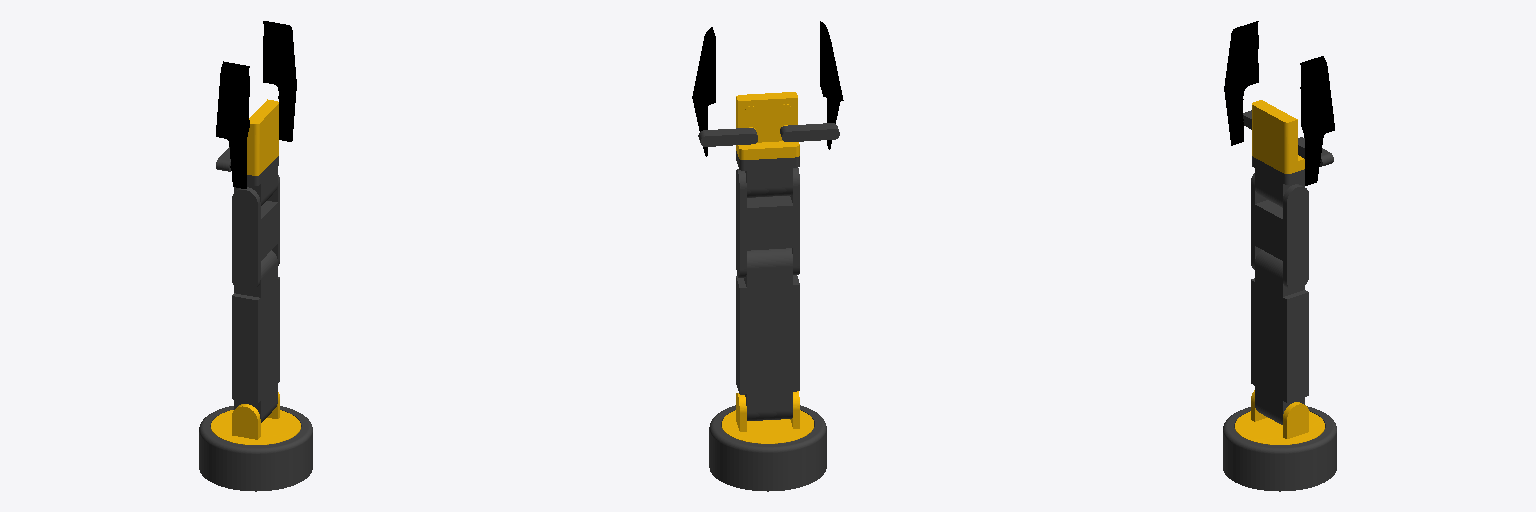
robot.urdf — roboticarm:
<?xml version="1.0" encoding="utf-8"?>
<robot name="roboticarm">
	<link name="base_link">
		<visual>
			<origin xyz="0 -3.061616997868383172e-18 0" rpy="0 -0 0" />
			<geometry>
				<mesh filename="package://roboticarm/meshes/base_link.stl"/>
			</geometry>
			<material name="base_link_material">
				<color rgba="0.30196078431372547213 0.30196078431372547213 0.30196078431372547213 1.0"/>
			</material>
		</visual>
		<collision>
			<origin xyz="0 -3.061616997868383172e-18 0" rpy="0 -0 0" />
			<geometry>
				<mesh filename="package://roboticarm/meshes/base_link.stl"/>
			</geometry>
		</collision>
		<inertial>
			<origin xyz="-4.77602454739838088e-19 2.8958832140881536724e-19 0.015175471595513270046" rpy="0 0 0"/>
			<mass value="3" />
			<inertia ixx="0.00018726421194346999145" ixy="0"  ixz="0" iyy="0.00018726421194346996434" iyz="0" izz="0.00032582308981714611226" />
		</inertial>
	</link>

	<link name="base_footprint"/>

  	<joint name="base_joint" type="fixed">
    	<parent link="base_footprint"/>
    	<child link="base_link"/>
  	</joint>

	<link name="base_turner">
		<visual>
			<origin xyz="-7.7037197775489434122e-34 2.4186774283160218508e-18 0" rpy="3.141592653589793116 -5.800379948404883893e-33 -1.3509192585334677443e-17" />
			<geometry>
				<mesh filename="package://roboticarm/meshes/base_turner.stl"/>
			</geometry>
			<material name="base_turner_material">
				<color rgba="1 0.7568627450980391913 0.054901960784313724728 1.0"/>
			</material>
		</visual>
		<collision>
			<origin xyz="-7.7037197775489434122e-34 2.4186774283160218508e-18 0" rpy="3.141592653589793116 -5.800379948404883893e-33 -1.3509192585334677443e-17" />
			<geometry>
				<mesh filename="package://roboticarm/meshes/base_turner.stl"/>
			</geometry>
		</collision>
		<inertial>
			<origin xyz="5.5598844816443582794e-19 -7.3096836725023755308e-20 -0.011836196737248342453" rpy="0 0 0"/>
			<mass value="0.11175253124514644698" />
			<inertia ixx="5.3325975321601912216e-05" ixy="-3.51237260836306189e-21"  ixz="2.9491221638408872214e-37" iyy="4.9148080114317318112e-05" iyz="-7.423000914889311464e-37" izz="8.5450446950173191535e-05" />
		</inertial>
	</link>

	<link name="arm_link_1">
		<visual>
			<origin xyz="-0.067499999999999990563 -0.012499999999999998959 -0.020000000000000003886" rpy="-1.570796326794896558 6.130702097240767706e-32 1.8754939557164924181e-32" />
			<geometry>
				<mesh filename="package://roboticarm/meshes/arm_link_1.stl"/>
			</geometry>
			<material name="arm_link_1_material">
				<color rgba="0.30196078431372547213 0.30196078431372547213 0.30196078431372547213 1.0"/>
			</material>
		</visual>
		<collision>
			<origin xyz="-0.067499999999999990563 -0.012499999999999998959 -0.020000000000000003886" rpy="-1.570796326794896558 6.130702097240767706e-32 1.8754939557164924181e-32" />
			<geometry>
				<mesh filename="package://roboticarm/meshes/arm_link_1.stl"/>
			</geometry>
		</collision>
		<inertial>
			<origin xyz="-0.067499999999999990563 3.4694469519536141888e-18 -0.020000000000000003886" rpy="0 0 0"/>
			<mass value="0.19423597169735287715" />
			<inertia ixx="4.8327548454074900576e-05" ixy="-6.9446664856317125743e-35"  ixz="-2.4864144440056784073e-34" iyy="0.00039018731950013892064" iyz="5.3946359155359762351e-20" izz="0.00036155476883491954486" />
		</inertial>
	</link>

	<link name="arm_link_2">
		<visual>
			<origin xyz="0.037500000000000005551 0.012500000000000002429 0.020000000000000003886" rpy="1.570796326794896558 -7.5241556983153562095e-31 1.0595692243082160377e-30" />
			<geometry>
				<mesh filename="package://roboticarm/meshes/arm_link_2.stl"/>
			</geometry>
			<material name="arm_link_2_material">
				<color rgba="0.30196078431372547213 0.30196078431372547213 0.30196078431372547213 1.0"/>
			</material>
		</visual>
		<collision>
			<origin xyz="0.037500000000000005551 0.012500000000000002429 0.020000000000000003886" rpy="1.570796326794896558 -7.5241556983153562095e-31 1.0595692243082160377e-30" />
			<geometry>
				<mesh filename="package://roboticarm/meshes/arm_link_2.stl"/>
			</geometry>
		</collision>
		<inertial>
			<origin xyz="0.037500000000000005551 3.4694469519536141888e-18 0.020000000000000000416" rpy="0 0 0"/>
			<mass value="0.07194679150920589572" />
			<inertia ixx="2.5166341084559216539e-05" ixy="3.7622670286868157678e-35"  ixz="-1.2087949772368430078e-35" iyy="4.9627704144379981355e-05" iyz="1.1025791277465072059e-21" izz="3.1794445729810808963e-05" />
		</inertial>
	</link>

	<link name="arm_link_3">
		<visual>
			<origin xyz="-0.027499999999999968914 -0.012500000000000005898 -0.020000000000000003886" rpy="-1.570796326794896558 -2.3152124483107459371e-16 6.5453902926940862579e-19" />
			<geometry>
				<mesh filename="package://roboticarm/meshes/arm_link_3.stl"/>
			</geometry>
			<material name="arm_link_3_material">
				<color rgba="0.30196078431372547213 0.30196078431372547213 0.30196078431372547213 1.0"/>
			</material>
		</visual>
		<collision>
			<origin xyz="-0.027499999999999968914 -0.012500000000000005898 -0.020000000000000003886" rpy="-1.570796326794896558 -2.3152124483107459371e-16 6.5453902926940862579e-19" />
			<geometry>
				<mesh filename="package://roboticarm/meshes/arm_link_3.stl"/>
			</geometry>
		</collision>
		<inertial>
			<origin xyz="-0.0097175241114590311942 -5.2041704279304212832e-18 -0.020000000000000000416" rpy="0 0 0"/>
			<mass value="0.04226949872412866932" />
			<inertia ixx="8.8772705670113749847e-06" ixy="6.3353906976273155615e-24"  ixz="3.6184562640890746835e-22" iyy="1.207659487483980475e-05" iyz="9.4802366371568496679e-22" izz="7.3093991557627407388e-06" />
		</inertial>
	</link>

	<link name="gripper_link_1">
		<visual>
			<origin xyz="9.3637472505942627797e-19 -0.012500000000000002429 -0.010000000000000008882" rpy="-1.570796326794896558 -1.570796326794896558 0" />
			<geometry>
				<mesh filename="package://roboticarm/meshes/gripper_link_1.stl"/>
			</geometry>
			<material name="gripper_link_1_material">
				<color rgba="1 0.7568627450980391913 0.054901960784313724728 1.0"/>
			</material>
		</visual>
		<collision>
			<origin xyz="9.3637472505942627797e-19 -0.012500000000000002429 -0.010000000000000008882" rpy="-1.570796326794896558 -1.570796326794896558 0" />
			<geometry>
				<mesh filename="package://roboticarm/meshes/gripper_link_1.stl"/>
			</geometry>
		</collision>
		<inertial>
			<origin xyz="-1.0976713691985615328e-18 -0.0040911575964131894484 -0.021733963606431462579" rpy="0 0 0"/>
			<mass value="0.040925034173514361624" />
			<inertia ixx="1.0810540744199395447e-05" ixy="2.8828905549150451188e-22"  ixz="2.3222399272774074034e-23" iyy="1.8465109477521547834e-05" iyz="-1.3839887922842312286e-06" izz="1.044129563656239275e-05" />
		</inertial>
	</link>

	<link name="gripper_link_2">
		<visual>
			<origin xyz="-0.019999999999999993477 -5.5511151231257827021e-17 -0.012500000000000000694" rpy="-2.8764607763481055775e-19 5.6852052070389681062e-17 3.5645252572563450608e-20" />
			<geometry>
				<mesh filename="package://roboticarm/meshes/gripper_link_2.stl"/>
			</geometry>
			<material name="gripper_link_2_material">
				<color rgba="0.30196078431372547213 0.30196078431372547213 0.30196078431372547213 1.0"/>
		</material>
		</visual>
		<collision>
			<origin xyz="-0.019999999999999993477 -5.5511151231257827021e-17 -0.012500000000000000694" rpy="-2.8764607763481055775e-19 5.6852052070389681062e-17 3.5645252572563450608e-20" />
			<geometry>
				<mesh filename="package://roboticarm/meshes/gripper_link_2.stl"/>
			</geometry>
		</collision>
		<inertial>
			<origin xyz="-0.019999999999999993477 -5.4406557546316011089e-17 -0.0062500000000000003469" rpy="0 0 0"/>
			<mass value="0.0062927985848676443875" />
			<inertia ixx="1.3222580606255356181e-07" ixy="-9.7906578846323247586e-27"  ixz="-5.3912387417026485794e-24" iyy="1.2905119066762784755e-06" iyz="-1.4051411248442962889e-25" izz="1.2588627495912370477e-06" />
		</inertial>
	</link>

	<link name="gripper_link_3">
		<visual>
		<origin xyz="0.030000000000000026645 -0.0030000000000000026645 -0.013500000000000003317" rpy="2.7895758333200453872e-17 -1.9176045572885558621e-19 5.9914972313653386157e-19" />
		<geometry>
		<mesh filename="package://roboticarm/meshes/gripper_link_3.stl"/>
		</geometry>
		<material name="gripper_link_3_material">
		<color rgba="0 0 0 1.0"/>
		</material>
		</visual>
		<collision>
		<origin xyz="0.030000000000000026645 -0.0030000000000000026645 -0.013500000000000003317" rpy="2.7895758333200453872e-17 -1.9176045572885558621e-19 5.9914972313653386157e-19" />
		<geometry>
		<mesh filename="package://roboticarm/meshes/gripper_link_3.stl"/>
		</geometry>
		</collision>
		<inertial>
		<origin xyz="0.047860279909926396746 -0.001816675545418268943 -0.0023582232389542500534" rpy="0 0 0"/>
		<mass value="0.022194922914096641003" />
		<inertia ixx="1.4659648868937333891e-06" ixy="1.0083147605711552851e-06"  ixz="-1.0394543711540078819e-06" iyy="1.4282656004211426759e-05" iyz="7.2086988985399456882e-08" izz="1.352743129292048836e-05" />
		</inertial>
	</link>

	<joint name="joint8" type="revolute">
		<origin xyz="-0.040000000000000021649 -5.5511151231257827021e-17 3.1008182133085426813e-17" rpy="3.1415926535897926719 -4.8509407399613398583e-16 -1.570796326794896558" />
		<parent link="gripper_link_2" />
		<child link="gripper_link_3" />
		<axis xyz="0 0 1"/>
		<limit lower="-1.57" upper="1.57" effort="100" velocity="1" />
	</joint>

	<joint name="joint6" type="revolute">
		<origin xyz="-0.014999999999999992506 0.0009999999999999993703 -0.019999999999999962252" rpy="1.570796326794896558 2.3228524371245603311e-14 -5.549460142490254044e-15" />
		<parent link="gripper_link_1" />
		<child link="gripper_link_2" />
		<axis xyz="0 0 1"/>
		<limit lower="-1.57" upper="1.57" effort="100" velocity="1" />
	</joint>

	<link name="gripper_link_2_2">
		<visual>
			<origin xyz="-0.020000000000000003886 0 -0.01249999999999999549" rpy="-1.8231828477160622874e-19 4.5024695016245069465e-17 -3.467885654086683229e-20" />
			<geometry>
				<mesh filename="package://roboticarm/meshes/gripper_link_2.stl"/>
			</geometry>
			<material name="gripper_link_2_material">
				<color rgba="0.30196078431372547213 0.30196078431372547213 0.30196078431372547213 1.0"/>
			</material>
		</visual>
		<collision>
			<origin xyz="-0.020000000000000003886 0 -0.01249999999999999549" rpy="-1.8231828477160622874e-19 4.5024695016245069465e-17 -3.467885654086683229e-20" />
			<geometry>
				<mesh filename="package://roboticarm/meshes/gripper_link_2.stl"/>
			</geometry>
		</collision>
		<inertial>
			<origin xyz="-0.020000000000000003886 1.100314120621160295e-18 -0.0062499999999999960101" rpy="0 0 0"/>
			<mass value="0.0062927985848676443875" />
			<inertia ixx="1.3222580606255356181e-07" ixy="-8.6152837385181148545e-25"  ixz="1.2181938944416348235e-22" iyy="1.290511906676278899e-06" iyz="-8.6656879893052597773e-25" izz="1.2588627495912366242e-06" />
		</inertial>
	</link>

	<link name="gripper_link_4">
		<visual>
			<origin xyz="0.030000000000000026645 0.0030000000000000026645 -0.00099999999999999915345" rpy="-3.141592653589793116 -3.5474759767231887989e-19 1.5061988724684013876e-19" />
			<geometry>
				<mesh filename="package://roboticarm/meshes/gripper_link_4.stl"/>
			</geometry>
			<material name="gripper_link_4_material">
				<color rgba="0 0 0 1.0"/>
			</material>
		</visual>
		<collision>
			<origin xyz="0.030000000000000026645 0.0030000000000000026645 -0.00099999999999999915345" rpy="-3.141592653589793116 -3.5474759767231887989e-19 1.5061988724684013876e-19" />
			<geometry>
				<mesh filename="package://roboticarm/meshes/gripper_link_4.stl"/>
			</geometry>
		</collision>
		<inertial>
			<origin xyz="0.047860326624455253042 0.001816665599035939202 -0.0023582303108284153118" rpy="0 0 0"/>
			<mass value="0.022194831460484187174" />
			<inertia ixx="1.4659634959644516769e-06" ixy="-1.0083188819202595108e-06"  ixz="-1.0394569788917439664e-06" iyy="1.4282644167872394038e-05" iyz="-7.2087021777091397614e-08" izz="1.3527421699463345985e-05" />
		</inertial>
	</link>

	<joint name="joint9" type="revolute">
		<origin xyz="-0.040000000000000000833 -1.1102230246251565404e-16 1.8865117801247777152e-17" rpy="-3.1415926535897926719 1.2875113902521724409e-15 1.57079632679489678" />
		<parent link="gripper_link_2_2" />
		<child link="gripper_link_4" />
		<axis xyz="0 0 1"/>
		<limit lower="-1.57" upper="1.57" effort="100" velocity="1" />
	</joint>

	<joint name="joint7" type="revolute">
		<origin xyz="0.015000000000000004649 0.00099999999999999698505 -0.020000000000000017764" rpy="-1.570796326794896558 2.9211766417202967469e-14 3.1415926535897877869" />
		<parent link="gripper_link_1" />
		<child link="gripper_link_2_2" />
		<axis xyz="0 0 1"/>
		<limit lower="-1.57" upper="1.57" effort="100" velocity="1" />
	</joint>

	<joint name="joint5" type="revolute">
		<origin xyz="-0.027500000000000024425 -8.2399365108898336985e-18 -0.020000000000000003886" rpy="3.141592653589793116 -1.5707963267948856778 0" />
		<parent link="arm_link_3" />
		<child link="gripper_link_1" />
		<axis xyz="0 0 1"/>
		<limit lower="-3.14" upper="3.14" effort="100" velocity="1" />
	</joint>

	<joint name="joint4" type="revolute">
		<origin xyz="0.075000000000000011102 2.1063240052122997717e-18 6.9388939039072283776e-18" rpy="-3.1415926535897926719 -2.4281616861104182506e-16 -3.1380330806969403135" />
		<parent link="arm_link_2" />
		<child link="arm_link_3" />
		<axis xyz="0 0 1"/>
		<limit lower="-1.7" upper="1.7" effort="100" velocity="1" />
	</joint>

	<joint name="joint3" type="revolute">
		<origin xyz="-0.13500000000000000888 3.0655396205876302604e-18 -0.040000000000000007772" rpy="1.566141830090408893e-15 2.5180549917200211291e-15 3.1415926535897868987" />
		<parent link="arm_link_1" />
		<child link="arm_link_2" />
		<axis xyz="0 0 1"/>
		<limit lower="-1.7" upper="1.7" effort="100" velocity="1" />
	</joint>

	<joint name="joint2" type="revolute">
		<origin xyz="1.7370716832809142268e-18 -0.020000000000000007355 -0.037500000000000005551" rpy="1.5707963267948956698 -1.5707963267948943376 0" />
		<parent link="base_turner" />
		<child link="arm_link_1" />
		<axis xyz="0 0 1"/>
		<limit lower="-1.57" upper="1.57" effort="100" velocity="1" />
	</joint>

	<joint name="joint1" type="revolute">
		<origin xyz="7.3266230497424844212e-18 5.6144109730709618633e-19 0.020000000000000055927" rpy="-3.141592653589793116 -2.0000188391028945031e-17 -0.91339895386326697135" />
		<parent link="base_link" />
		<child link="base_turner" />
		<axis xyz="0 0 1"/>
		<limit lower="-3.14" upper="3.14" effort="100" velocity="1" />
	</joint>

	<!-- gazebo related stuffs -->
	<gazebo>
		<plugin name="gazebo_ros_control" filename="libgazebo_ros_control.so">
			<robotNamespace>/roboticarm</robotNamespace>
		</plugin>
	</gazebo>

	<transmission name="trans_1">
		<type>transmission_interface/SimpleTransmission</type>
		<joint name="joint1">
			<hardwareInterface>hardware_interface/EffortJointInterface</hardwareInterface>
		</joint>
		<actuator name="motor_1">
			<mechanicalReduction>10</mechanicalReduction>
		</actuator>
	</transmission>

	<transmission name="trans_2">
		<type>transmission_interface/SimpleTransmission</type>
		<joint name="joint2">
			<hardwareInterface>hardware_interface/EffortJointInterface</hardwareInterface>
		</joint>
		<actuator name="motor_2">
			<mechanicalReduction>10</mechanicalReduction>
		</actuator>
	</transmission>

	<transmission name="trans_3">
		<type>transmission_interface/SimpleTransmission</type>
		<joint name="joint3">
			<hardwareInterface>hardware_interface/EffortJointInterface</hardwareInterface>
		</joint>
		<actuator name="motor_3">
			<mechanicalReduction>10</mechanicalReduction>
		</actuator>
	</transmission>

	<transmission name="trans_4">
		<type>transmission_interface/SimpleTransmission</type>
		<joint name="joint4">
			<hardwareInterface>hardware_interface/EffortJointInterface</hardwareInterface>
		</joint>
		<actuator name="motor_4">
			<mechanicalReduction>10</mechanicalReduction>
		</actuator>
	</transmission>

	<transmission name="trans_5">
		<type>transmission_interface/SimpleTransmission</type>
		<joint name="joint5">
			<hardwareInterface>hardware_interface/EffortJointInterface</hardwareInterface>
		</joint>
		<actuator name="motor_5">
			<mechanicalReduction>10</mechanicalReduction>
		</actuator>
	</transmission>

	<transmission name="trans_6">
		<type>transmission_interface/SimpleTransmission</type>
		<joint name="joint6">
			<hardwareInterface>hardware_interface/EffortJointInterface</hardwareInterface>
		</joint>
		<actuator name="motor_6">
			<mechanicalReduction>10</mechanicalReduction>
		</actuator>
	</transmission>

	<transmission name="trans_7">
		<type>transmission_interface/SimpleTransmission</type>
		<joint name="joint7">
			<hardwareInterface>hardware_interface/EffortJointInterface</hardwareInterface>
		</joint>
		<actuator name="motor_7">
			<mechanicalReduction>10</mechanicalReduction>
		</actuator>
	</transmission>

	<transmission name="trans_8">
		<type>transmission_interface/SimpleTransmission</type>
		<joint name="joint8">
			<hardwareInterface>hardware_interface/EffortJointInterface</hardwareInterface>
		</joint>
		<actuator name="motor_8">
			<mechanicalReduction>10</mechanicalReduction>
		</actuator>
	</transmission>

	<transmission name="trans_9">
		<type>transmission_interface/SimpleTransmission</type>
		<joint name="joint9">
			<hardwareInterface>hardware_interface/EffortJointInterface</hardwareInterface>
		</joint>
		<actuator name="motor_9">
			<mechanicalReduction>10</mechanicalReduction>
		</actuator>
	</transmission>
</robot>

--- Facts derived from the render (not from the file) ---
3 views of the same robot in one strip: view 1: azimuth 30°, elevation 25°; view 2: azimuth 150°, elevation 25°; view 3: azimuth 270°, elevation 25° (orthographic).
Model roboticarm with 11 links and 10 joints (9 revolute, 1 fixed), rooted at base_footprint, posed every joint at zero.
Visible links, largest first — view 1: arm_link_1, base_link, arm_link_2, gripper_link_4, gripper_link_3, base_turner, gripper_link_1, arm_link_3; view 2: arm_link_1, base_link, arm_link_2, gripper_link_1, base_turner, arm_link_3, gripper_link_3, gripper_link_4, gripper_link_2_2, gripper_link_2; view 3: arm_link_1, base_link, arm_link_2, gripper_link_3, gripper_link_1, gripper_link_4, base_turner, arm_link_3.
Link boxes in pixels (x1,y1,x2,y2): arm_link_1: (232, 250, 279, 422); base_link: (199, 406, 312, 491); arm_link_2: (232, 175, 279, 292); gripper_link_4: (216, 61, 249, 188); gripper_link_3: (263, 21, 296, 141); base_turner: (211, 392, 300, 444); gripper_link_1: (247, 99, 278, 175); arm_link_3: (234, 156, 278, 205); arm_link_1: (736, 248, 799, 420); base_link: (709, 405, 826, 491); arm_link_2: (736, 168, 799, 277); gripper_link_1: (736, 92, 799, 159); base_turner: (722, 391, 813, 443); arm_link_3: (736, 151, 799, 197); gripper_link_3: (692, 27, 715, 156); gripper_link_4: (820, 21, 843, 149); gripper_link_2_2: (780, 123, 839, 141); gripper_link_2: (698, 128, 757, 146); arm_link_1: (1251, 250, 1308, 424); base_link: (1223, 406, 1336, 491); arm_link_2: (1251, 173, 1308, 290); gripper_link_3: (1300, 56, 1334, 185); gripper_link_1: (1252, 100, 1304, 173); gripper_link_4: (1224, 21, 1258, 145); base_turner: (1235, 390, 1324, 444); arm_link_3: (1252, 156, 1304, 207).
Bounding box of the posed robot: 0.1157 × 0.1 × 0.4106 m (x, y, z).
10 mesh visuals loaded from 9 distinct referenced files (9 binary STL).